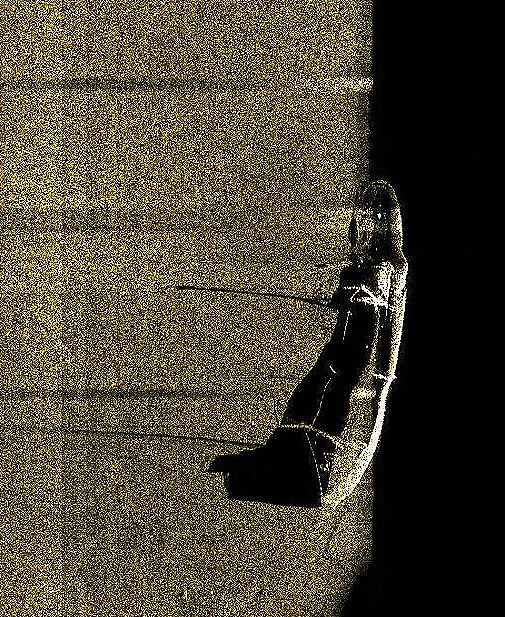ship: (272, 178, 411, 511)
